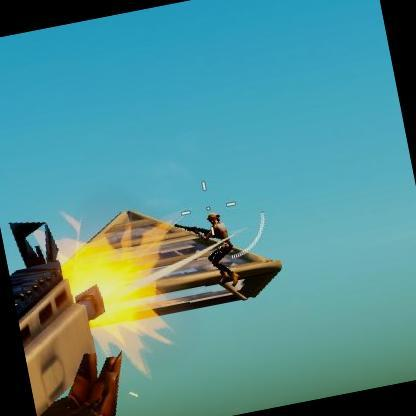person: (192, 209, 242, 294)
